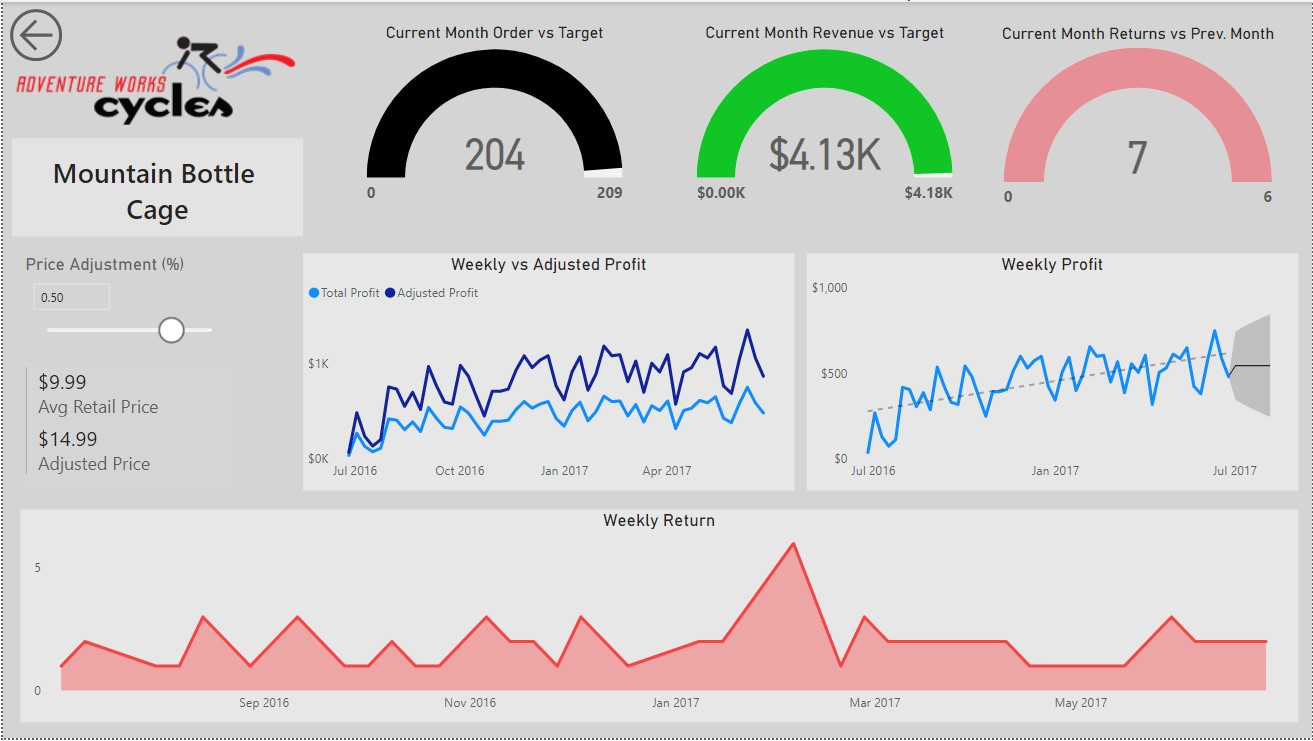

This screenshot's page, from the dashboard's own definition file:
{"tool":"powerbi","page":{"name":"Product Details","canvas":[1280,720],"ordinal":1},"visuals":[{"type":"image","box":[8.6,20.8,284.8,112.5],"z":0},{"type":"lineChart","title":"Weekly Profit","fields":{"Y":["AW_Sales.Total Profit"],"Category":["AS_Calendar_LOOKUP.Start of Week"]},"box":[786,245.7,480.4,232.3],"z":1000},{"type":"areaChart","title":"Weekly Return","fields":{"Category":["AS_Calendar_LOOKUP.Start of Week"],"Y":["AW_Returns.Total Return"]},"box":[17.1,496.3,1249.3,207.8],"z":2000},{"type":"gauge","title":"Current Month  Order vs Target","fields":{"Y":["AW_Sales.Total Orders"],"MaxValue":["AW_Sales.Order Taget"]},"box":[351.2,21.2,260,188.8],"z":3000},{"type":"gauge","title":"Current Month Revenue vs Target","fields":{"Y":["AW_Sales.Total Revenue"],"MaxValue":["AW_Sales.Tagret Revenue"]},"box":[673.8,21.2,260,188.8],"z":4000},{"type":"gauge","title":"Current Month Returns vs Prev. Month","fields":{"Y":["AW_Returns.Total Return"],"MaxValue":["AW_Returns.Previous month Returns"]},"box":[970,22.5,278.8,188.8],"z":5000},{"type":"card","fields":{"Values":["Min(AW_PRODUCT_LOOKUP.ProductName)"]},"box":[8.8,133.8,285,96.2],"z":6000},{"type":"actionButton","box":[0,0,125,65],"z":7000},{"type":"slicer","title":"Price Adjustment (%)","fields":{"Values":["Price Adjustment (%).Price Adjustment (%)"]},"box":[17.1,245.7,207.8,106.3],"z":8000},{"type":"multiRowCard","fields":{"Values":["AW_PRODUCT_LOOKUP.Avg Retail Price","AW_PRODUCT_LOOKUP.Adjusted Price"]},"box":[17.1,352.1,207.8,125.9],"z":9000},{"type":"lineChart","title":"Weekly vs Adjusted Profit ","fields":{"Y":["AW_Sales.Total Profit","AW_Sales.Adjusted Profit"],"Category":["AS_Calendar_LOOKUP.Start of Week"]},"box":[293.4,245.7,480.4,232.3],"z":10000}]}

Visuals, with their boxes in screenshot pixels (x1, y1, x2, y2), scaled from the page's 1280x720 canvas onto the 1313x741 screenshot:
image: [9, 21, 301, 137]
"Weekly Profit" lineChart: [806, 253, 1299, 492]
"Weekly Return" areaChart: [18, 511, 1299, 725]
"Current Month  Order vs Target" gauge: [360, 22, 627, 216]
"Current Month Revenue vs Target" gauge: [691, 22, 958, 216]
"Current Month Returns vs Prev. Month" gauge: [995, 23, 1281, 217]
card - Min(AW_PRODUCT_LOOKUP.ProductName): [9, 138, 301, 237]
actionButton: [0, 0, 128, 67]
"Price Adjustment (%)" slicer: [18, 253, 231, 362]
multiRowCard - AW_PRODUCT_LOOKUP.Avg Retail Price x AW_PRODUCT_LOOKUP.Adjusted Price: [18, 362, 231, 492]
"Weekly vs Adjusted Profit " lineChart: [301, 253, 794, 492]
